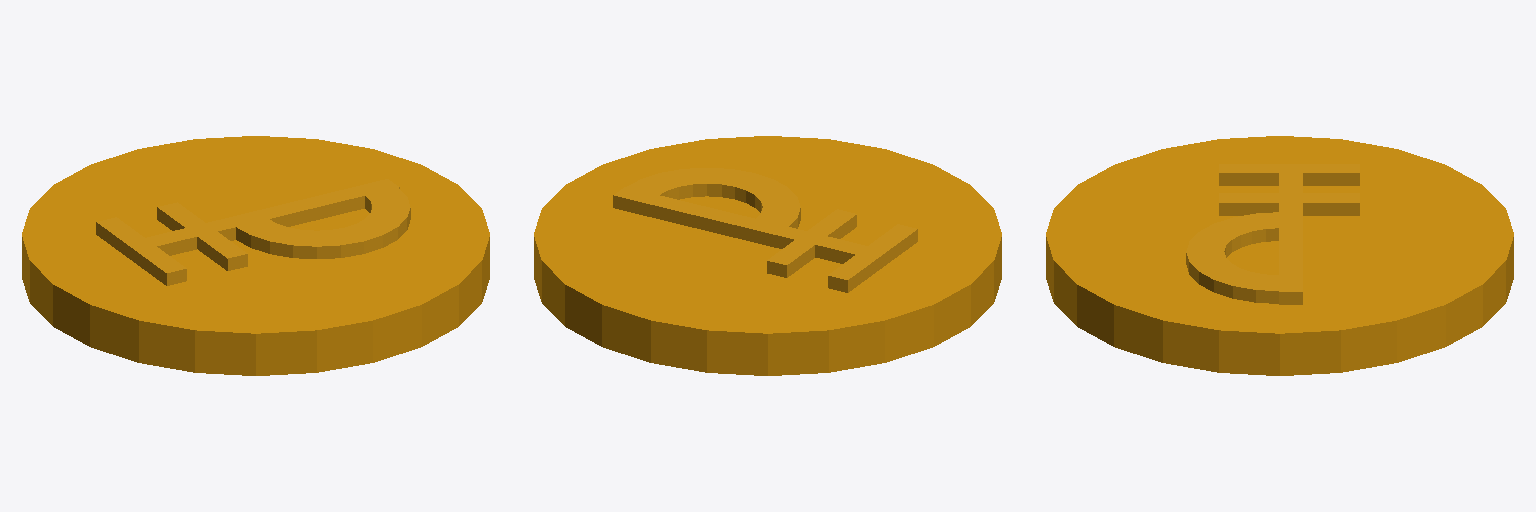
File: 3DM_PircCoin.obj
The picture shows the model from 3 angles: view 1: azimuth 30°, elevation 25°; view 2: azimuth 150°, elevation 25°; view 3: azimuth 270°, elevation 25°; orthographic projection.
Parts seen in each view (by area): view 1: cylinder, block, cylinderHollow_half; view 2: cylinder, block, cylinderHollow_half; view 3: cylinder, block, cylinderHollow_half.
Part boxes in pixels (bbox=[...]): cylinder: bbox=[22, 136, 489, 375]; block: bbox=[96, 179, 399, 285]; cylinderHollow_half: bbox=[236, 188, 410, 258]; cylinder: bbox=[534, 136, 1001, 375]; block: bbox=[613, 187, 917, 292]; cylinderHollow_half: bbox=[627, 168, 800, 228]; cylinder: bbox=[1046, 136, 1513, 375]; block: bbox=[1219, 164, 1359, 304]; cylinderHollow_half: bbox=[1186, 212, 1279, 303].
Size of the model in its own units: 1 by 0.16 by 1.